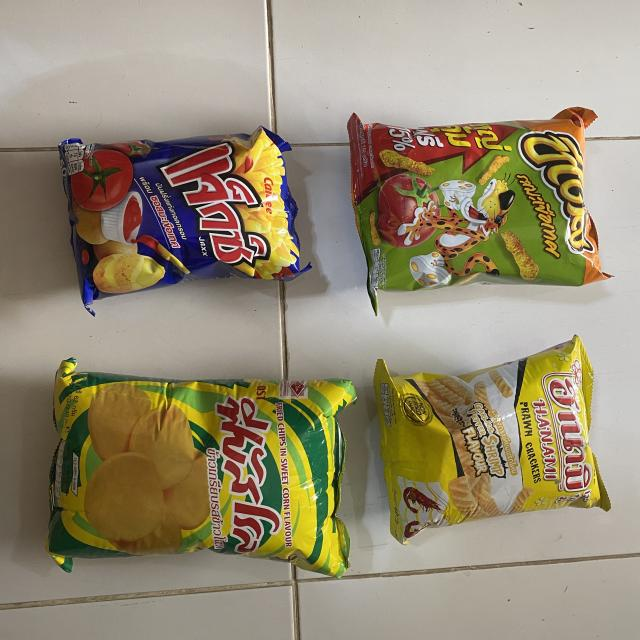plastik: (46, 359, 355, 578), (348, 108, 609, 311), (374, 336, 610, 544), (59, 128, 310, 314)
